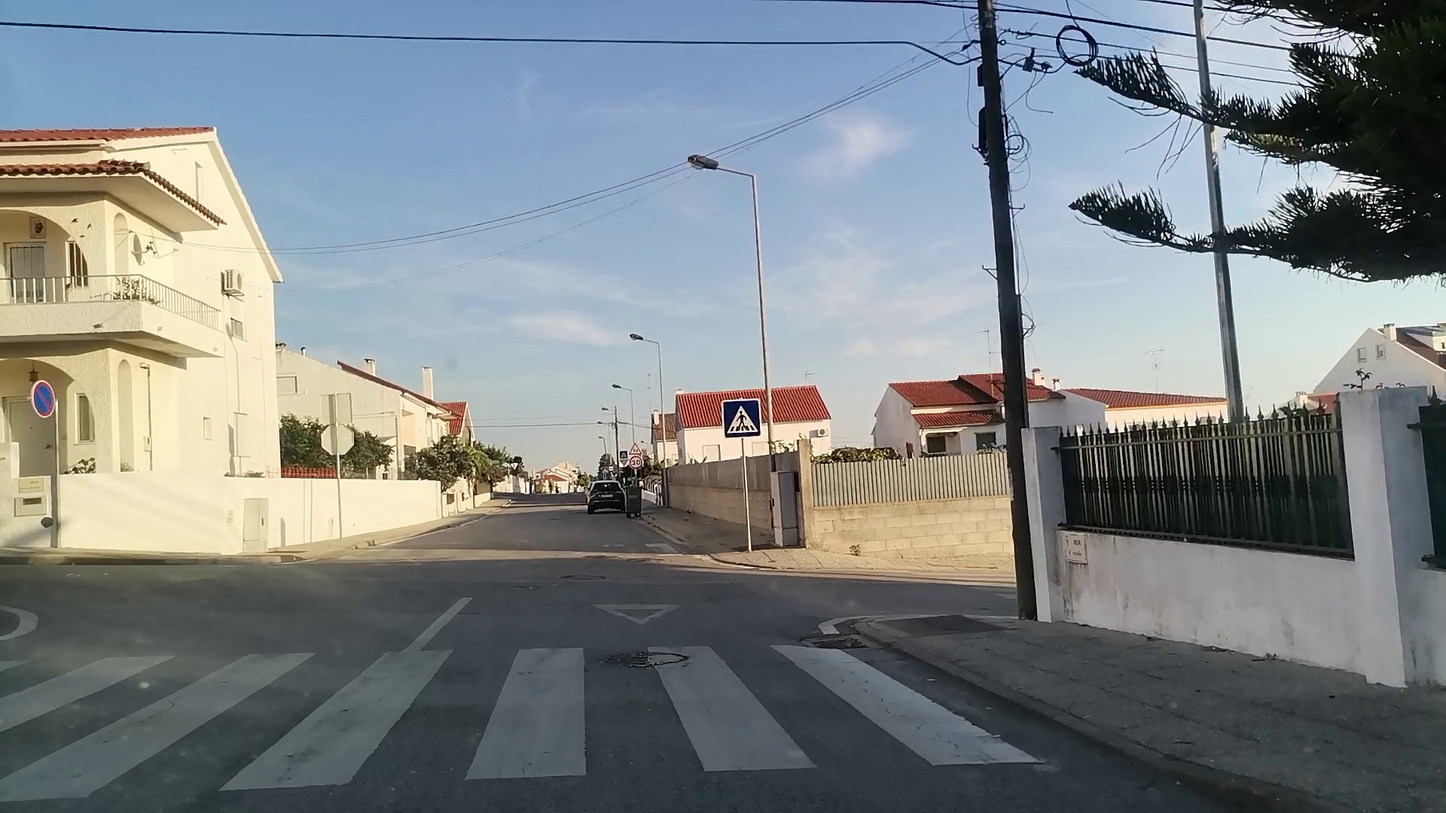Stairs: (0, 636, 1041, 799)
